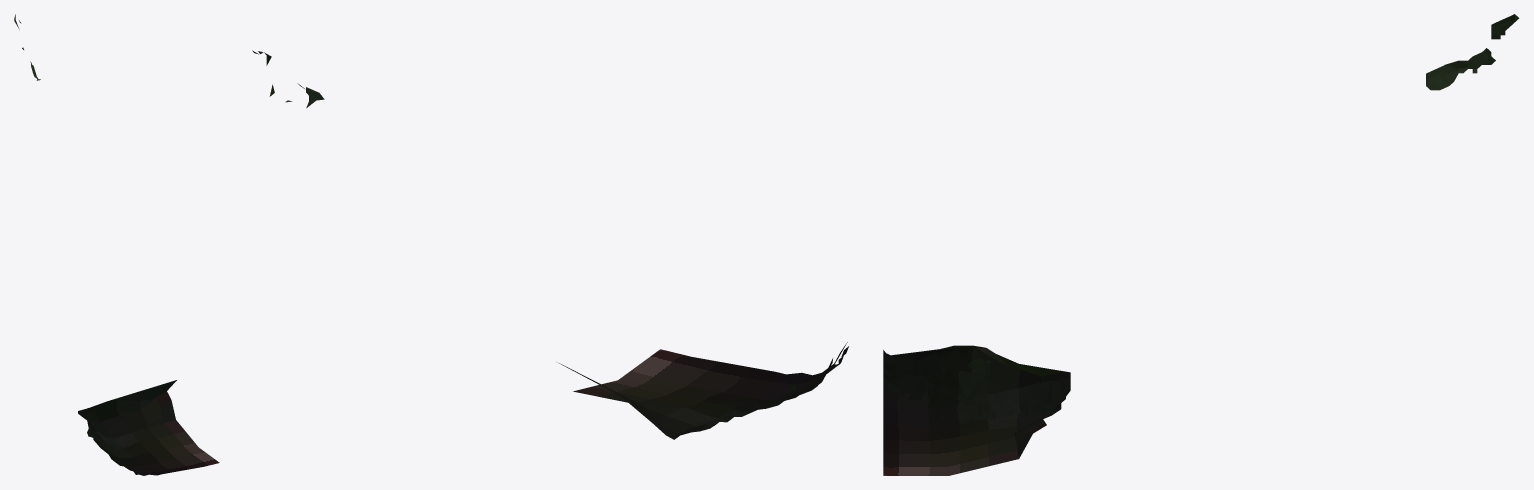
3 views of the same model, side by side, from view 1: azimuth 30°, elevation 25°; view 2: azimuth 150°, elevation 25°; view 3: azimuth 270°, elevation 25° (orthographic). The views are drawn at different scales.
Size of the model in its own units: 0.0752 by 0.2101 by 0.2621.
Materials: 1 (1 with a texture image).
